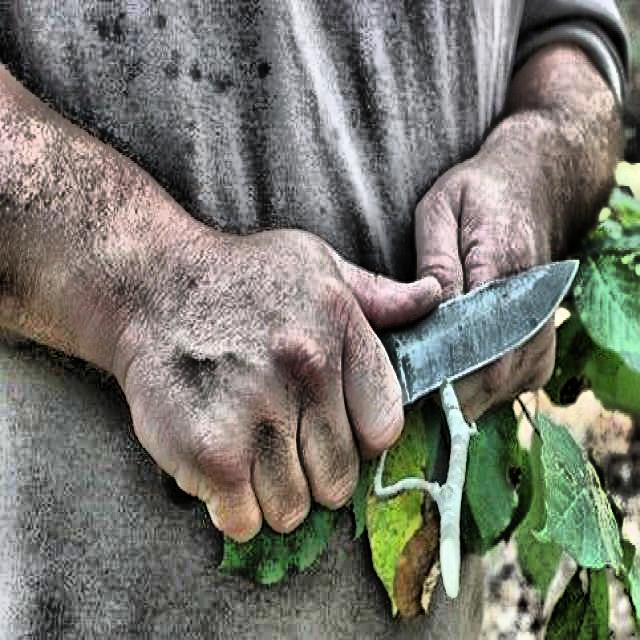knife: (379, 260, 579, 404)
